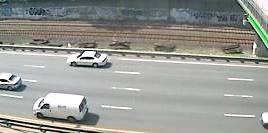car: (31, 91, 90, 124), (63, 48, 111, 69), (1, 70, 25, 93)
